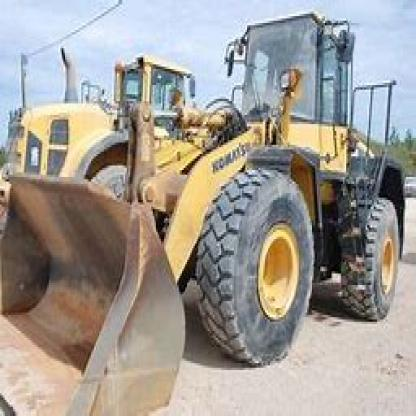bull_dozer/loader/grader: (13, 5, 406, 414)
